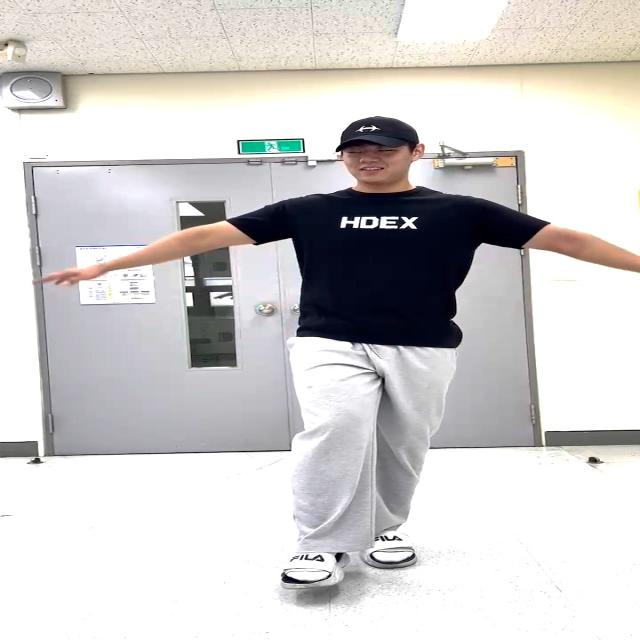leg: (283, 346, 369, 589)
